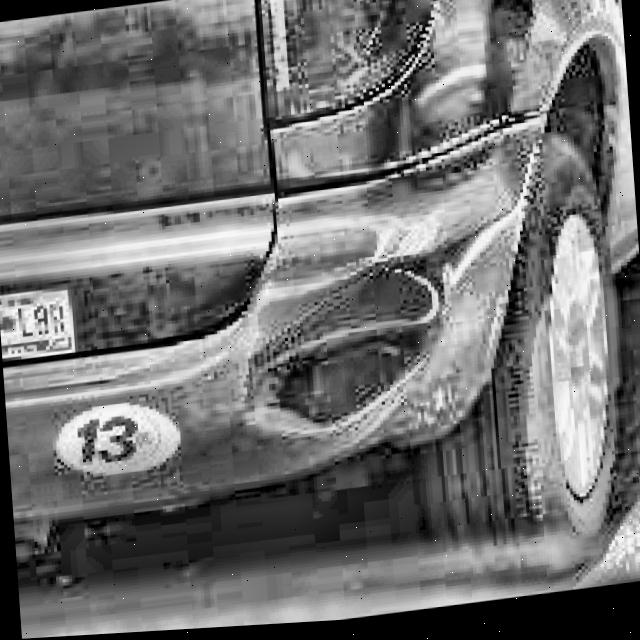bumper_dent: (242, 259, 440, 440)
